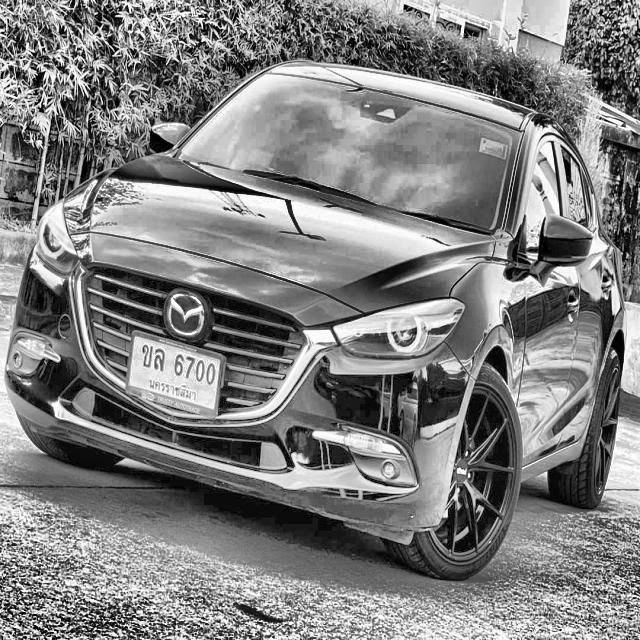license-plate: (123, 327, 226, 424)
